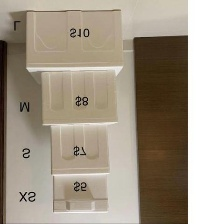foam_box: (20, 6, 127, 87), (35, 66, 123, 130), (46, 121, 114, 178), (49, 171, 112, 216)
